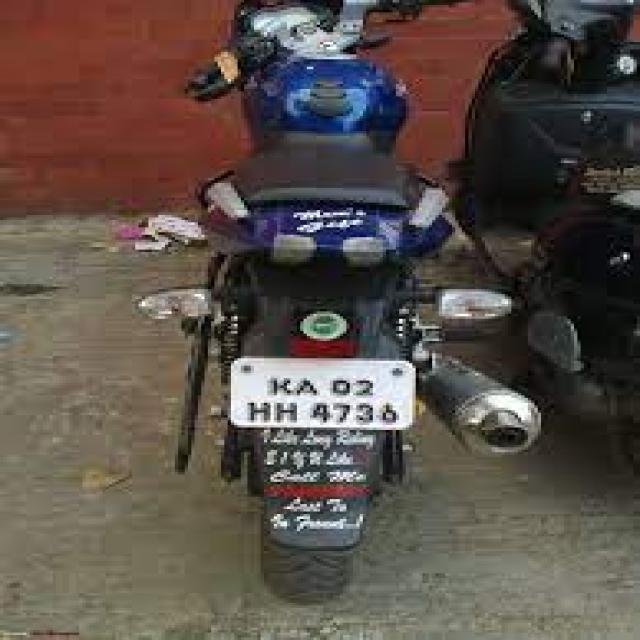number plate: (224, 353, 416, 430)
